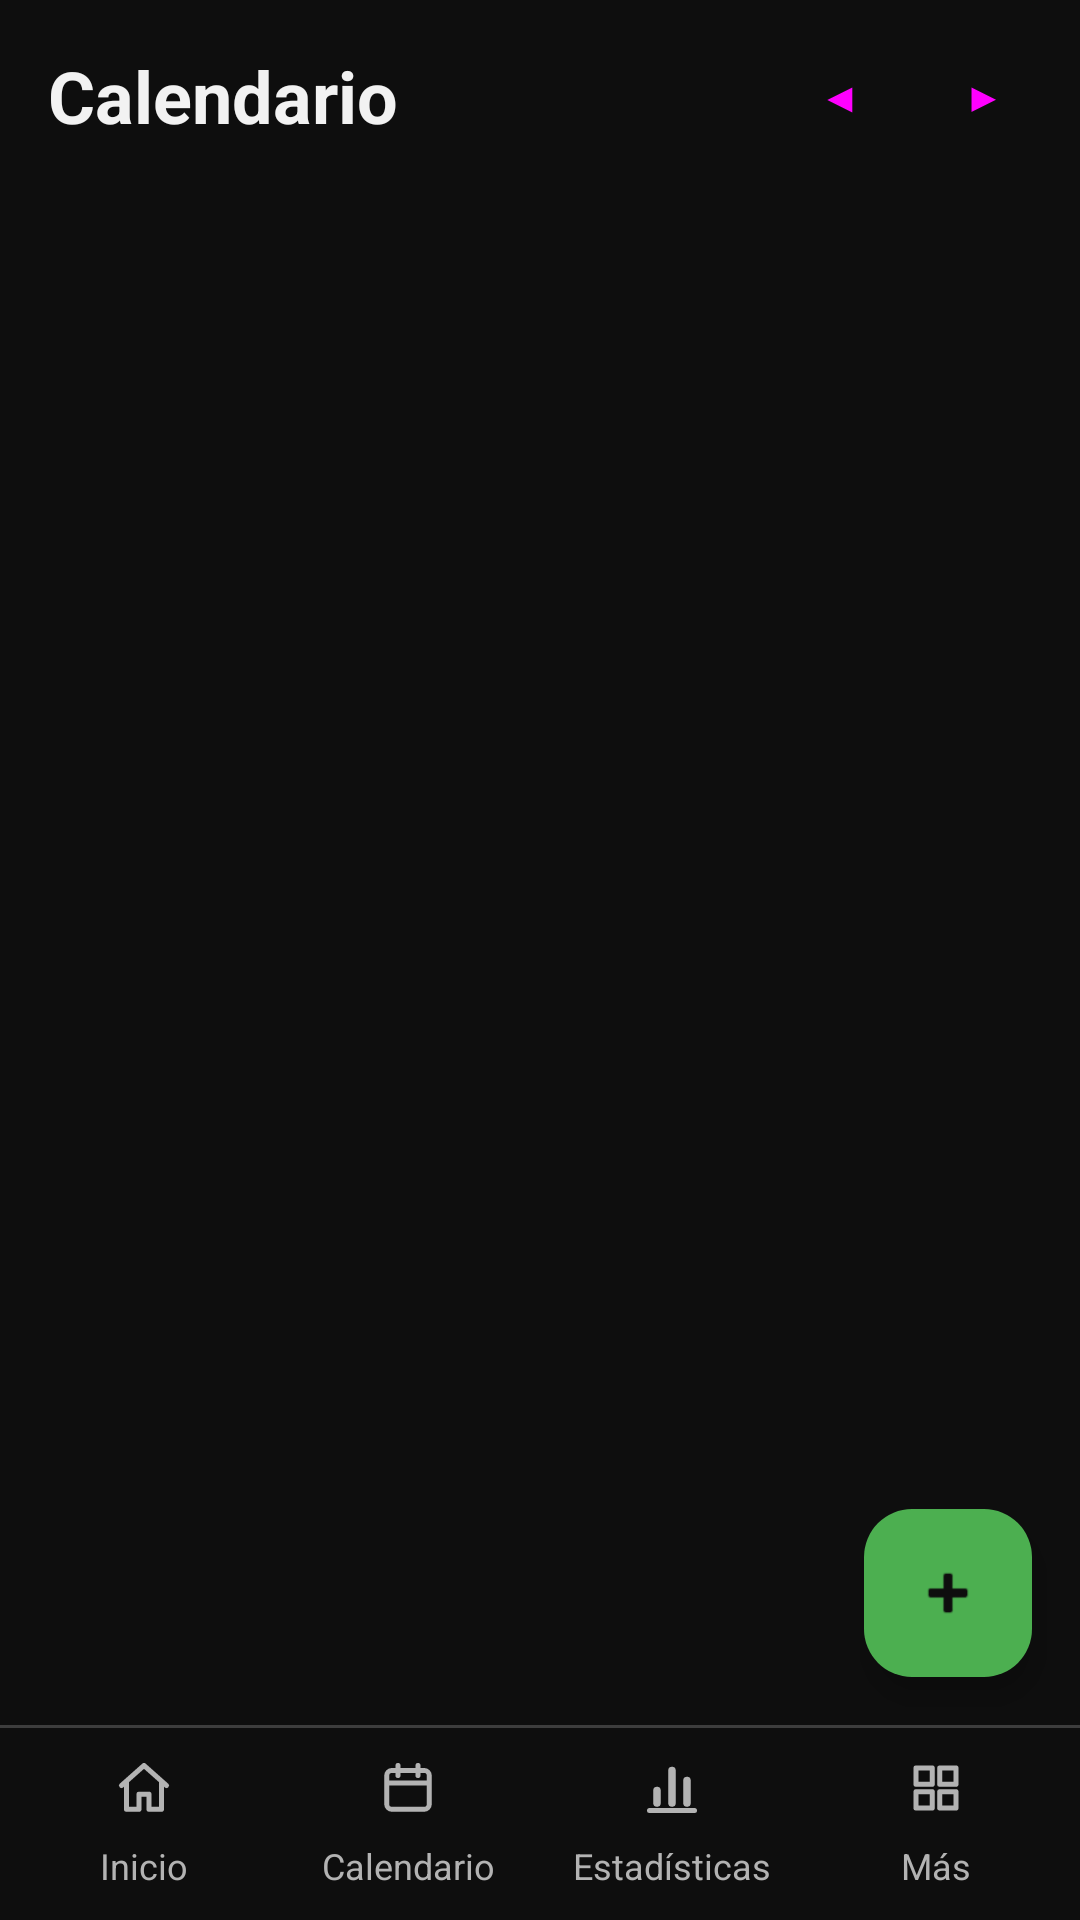

Point at icon controls on the screen. Image size 1080w x 1920h, points as (x,y).
Agregar sesión: (948,1593)
